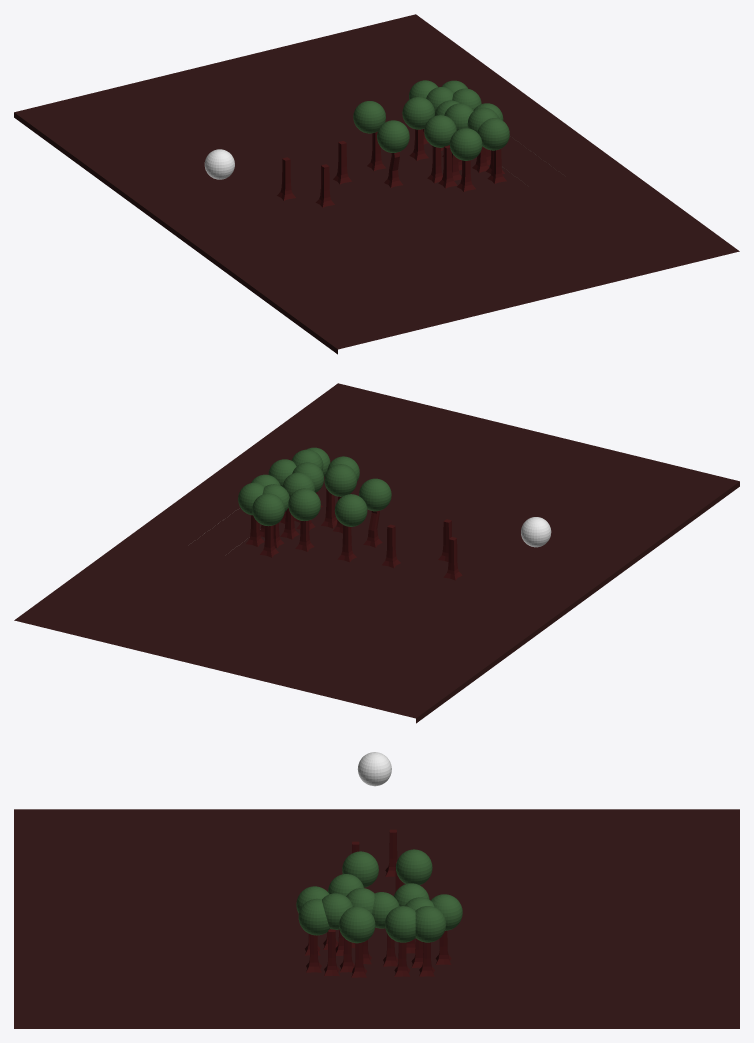
File: Level_TestGeo_2.fbx
3 renders of one model, top to bottom at view 1: azimuth 30°, elevation 25°; view 2: azimuth 150°, elevation 25°; view 3: azimuth 270°, elevation 25°, orthographic. The views are drawn at different scales.
Parts seen in each view (by area): view 1: Plane, Sphere.004, Sphere.006, Sphere.005, Sphere.003, Sphere.008, Sphere.009, Sphere; view 2: Plane, Sphere.014, Sphere.009, Sphere.005, Sphere.003, Sphere.004, Sphere; view 3: Plane, Sphere.001, Sphere.005, Sphere.013, Sphere.011, Sphere, Sphere.004, Sphere.008, Sphere.007, Sphere.014, Sphere.010, Sphere.003 (+2 smaller).
Part boxes in pixels (x1,y1,x2,y2): Plane: (14, 14, 739, 354); Sphere.004: (377, 120, 409, 152); Sphere.006: (449, 128, 482, 160); Sphere.005: (353, 101, 385, 133); Sphere.003: (424, 115, 456, 147); Sphere.008: (477, 118, 509, 150); Sphere.009: (402, 97, 434, 129); Sphere: (204, 149, 234, 179); Plane: (14, 383, 739, 723); Sphere.014: (252, 493, 284, 526); Sphere.009: (288, 488, 320, 520); Sphere.005: (334, 494, 367, 526); Sphere.003: (324, 464, 356, 496); Sphere.004: (359, 478, 391, 511); Sphere: (521, 517, 551, 547); Plane: (14, 809, 739, 1028); Sphere.001: (338, 906, 375, 943); Sphere.005: (396, 849, 432, 885); Sphere.013: (415, 906, 446, 942); Sphere.011: (385, 906, 415, 942); Sphere: (357, 752, 391, 786); Sphere.004: (342, 851, 378, 887); Sphere.008: (298, 898, 329, 935); Sphere.007: (322, 893, 352, 929); Sphere.014: (431, 894, 462, 930); Sphere.010: (372, 892, 399, 928); Sphere.003: (328, 874, 363, 896).
Bounding box in the file's own units: 4271 × 769 × 5965.
